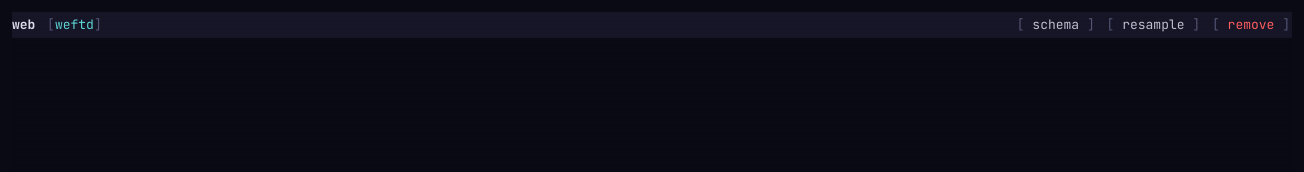
ConfiguredSourcesList schema panel › shows the note when there is no preview
Click the button with test id "configured-source-web-viewschema-button": (1056, 25) [1015,15,1097,34]
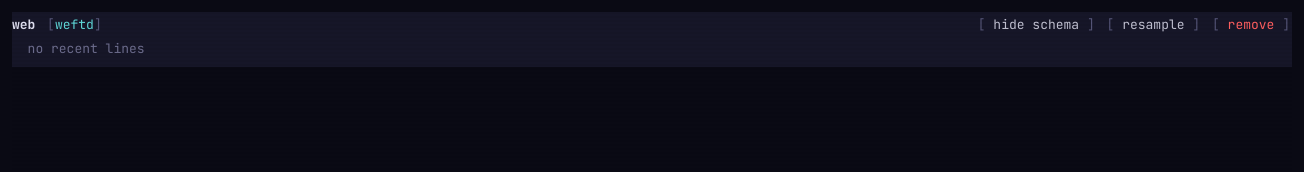
Result: the text with test id "configured-source-web-schema-note" reads "no recent lines" at [28,40,145,56]
